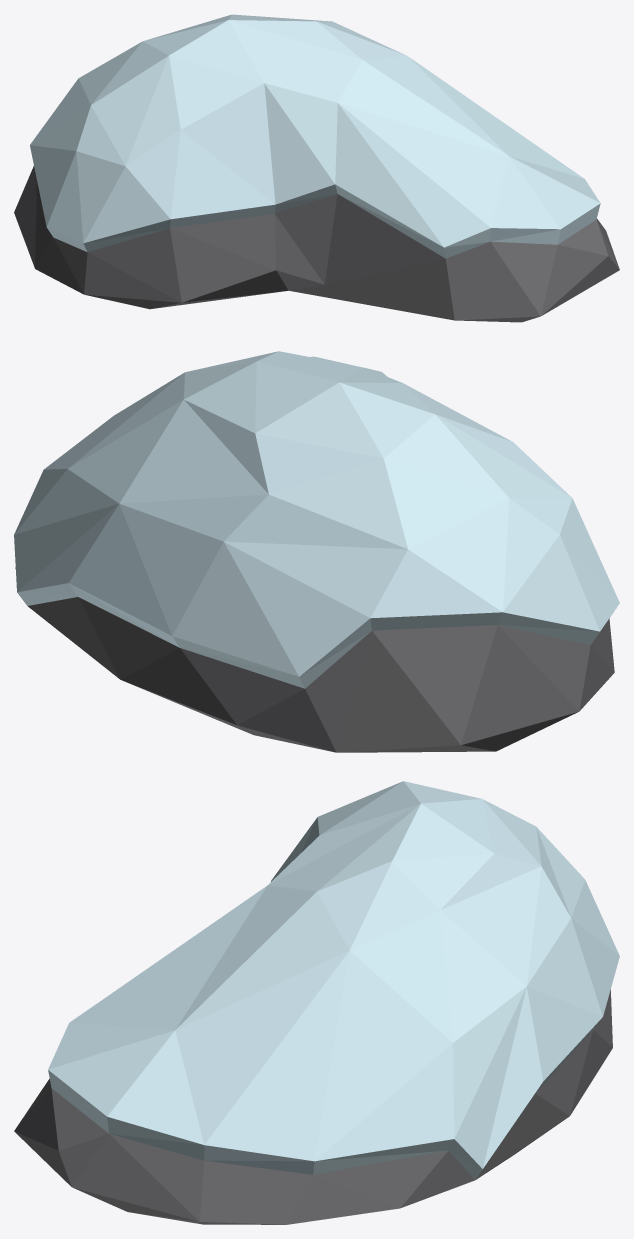
The model's file is SM_Env_Rock_01_Snow.fbx.
3 renders of one model, top to bottom at view 1: azimuth 30°, elevation 25°; view 2: azimuth 150°, elevation 25°; view 3: azimuth 270°, elevation 25°, orthographic. The views are drawn at different scales.
Visible parts, largest first — view 1: SM_Env_Rock_01_Snow; view 2: SM_Env_Rock_01_Snow; view 3: SM_Env_Rock_01_Snow.
Part boxes in pixels (<box>): SM_Env_Rock_01_Snow: <box>14,14,619,322</box>; SM_Env_Rock_01_Snow: <box>14,351,619,752</box>; SM_Env_Rock_01_Snow: <box>14,781,619,1224</box>.
Bounding box in the file's own units: 171 × 82.33 × 157.
